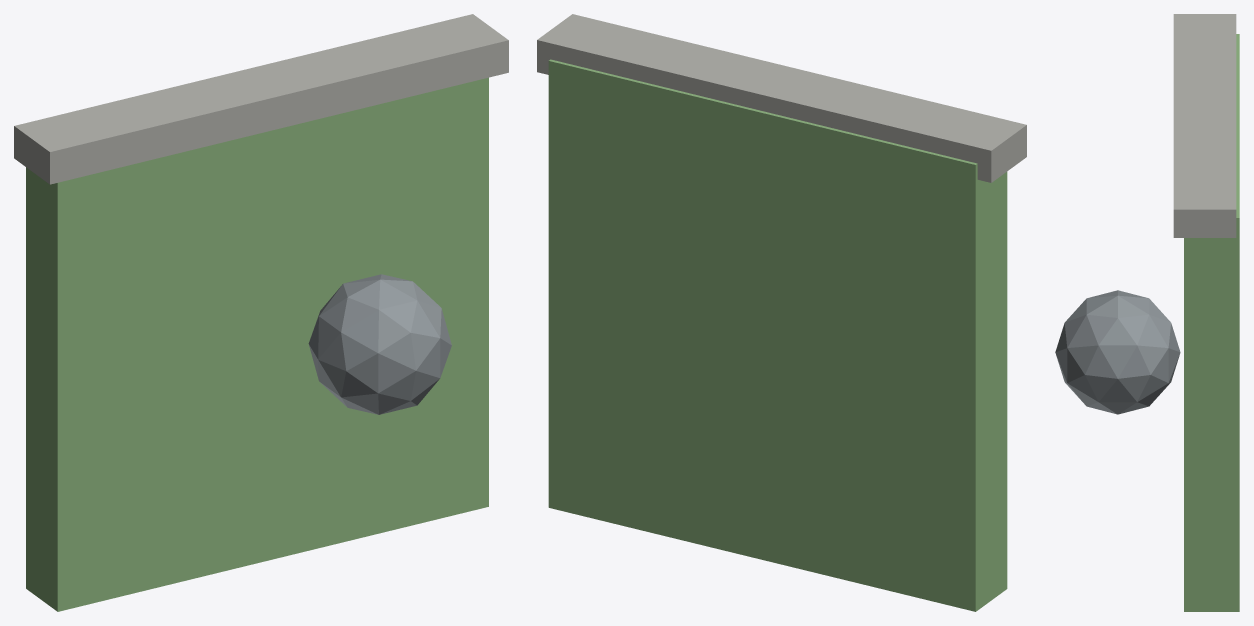
Rendered from 28_Sat.glb.
3 views of the same model, side by side, from view 1: azimuth 30°, elevation 25°; view 2: azimuth 150°, elevation 25°; view 3: azimuth 270°, elevation 25° (orthographic). The views are drawn at different scales.
Visible parts, largest first — view 1: base, edge, ore; view 2: base, edge; view 3: base, edge, ore.
Part boxes in pixels (x1=…): base: x1=26, y1=77, x2=488, y2=611; edge: x1=14, y1=14, x2=508, y2=184; ore: x1=308, y1=274, x2=451, y2=414; base: x1=548, y1=59, x2=1007, y2=611; edge: x1=537, y1=14, x2=1026, y2=182; base: x1=1184, y1=34, x2=1239, y2=611; edge: x1=1173, y1=14, x2=1236, y2=237; ore: x1=1055, y1=290, x2=1180, y2=414.
Bounding box in the file's own units: 1.33 × 1.3 × 0.53.
